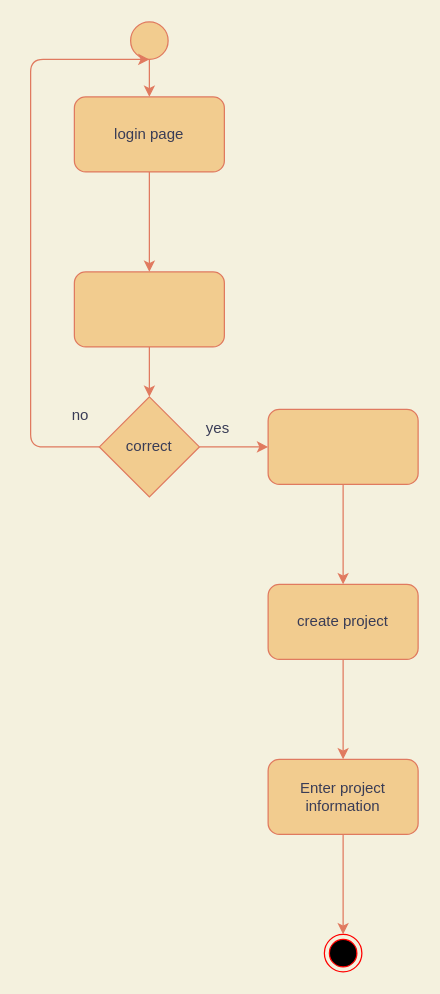
Image size: 440x994. Some labels were removed from this diagram. Here are the shapes that lost their labels. From the top down, the centre of each, then its label:
At (x=148, y=309): "enter credentials".
At (x=342, y=446): "team leader dashboard".
